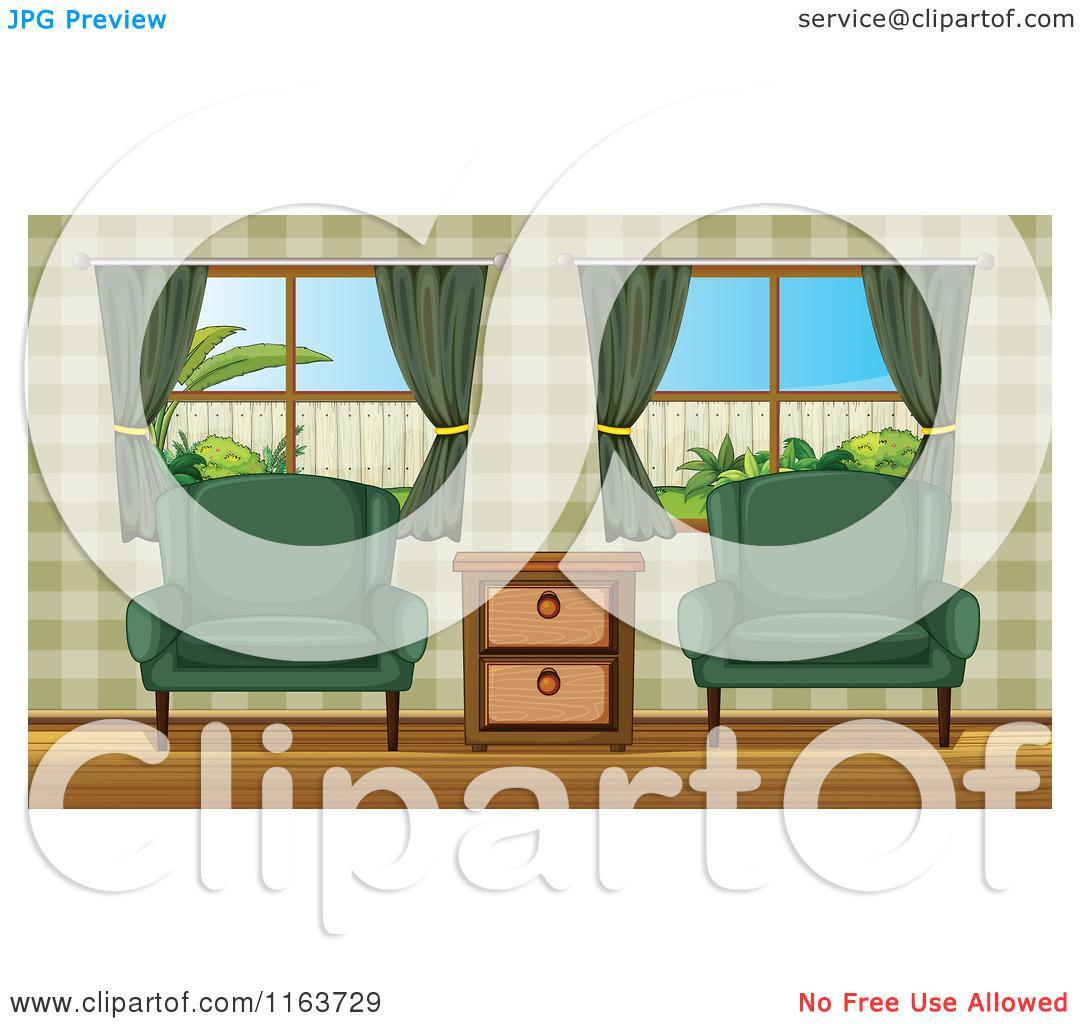sofa: (98, 473, 440, 757), (667, 472, 981, 744)
